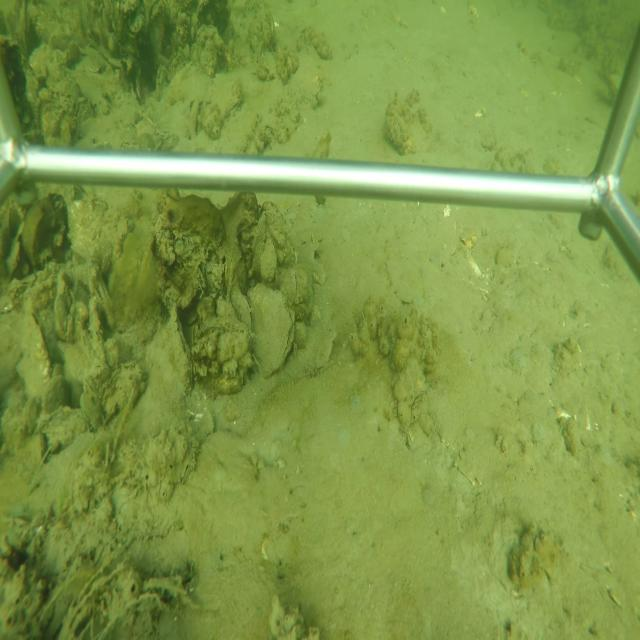Oyster-Closed: (251, 284, 295, 379), (159, 302, 194, 397), (22, 309, 52, 405), (99, 361, 145, 421), (262, 197, 288, 254), (231, 284, 256, 338)
